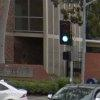Traffic light: (52, 13, 82, 58)
